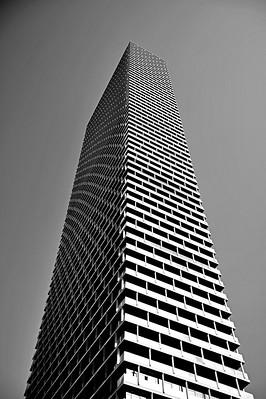building: (19, 35, 260, 397)
